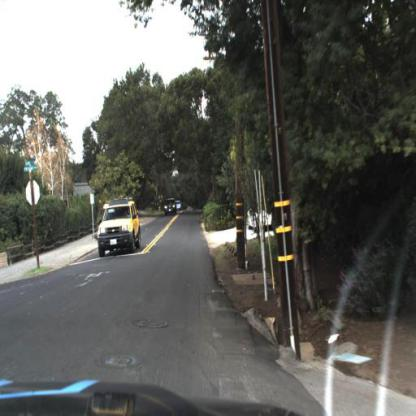car: (96, 195, 142, 255), (164, 198, 176, 221)
